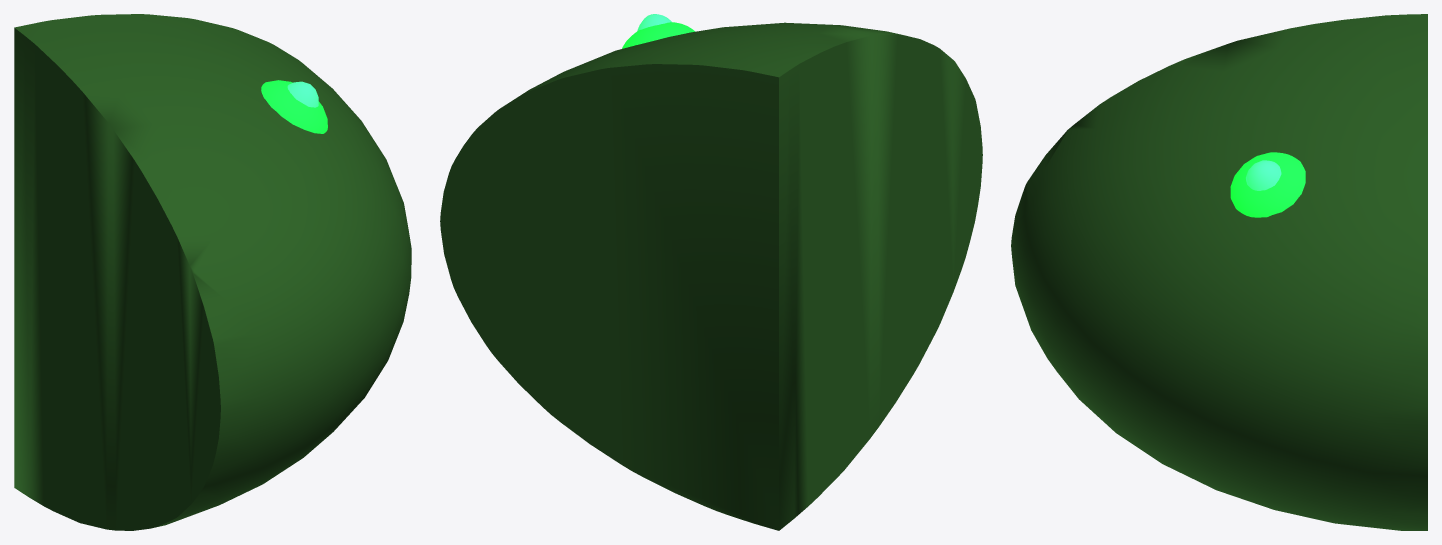
File: glass_globe_br.glb
The picture shows the model from 3 angles, left to right: view 1: azimuth 30°, elevation 25°; view 2: azimuth 150°, elevation 25°; view 3: azimuth 270°, elevation 25°; orthographic projection. The views are drawn at different scales.
Parts seen in each view (by area): view 1: glass_globe_br_globe_glass, glass_globe_br_globe_lobe_c, glass_globe_br_globe_lobe_c_core; view 2: glass_globe_br_globe_glass, glass_globe_br_globe_lobe_c; view 3: glass_globe_br_globe_glass, glass_globe_br_globe_lobe_c, glass_globe_br_globe_lobe_c_core.
Boxes of the visible parts, x1,y1,x2,y2 form: glass_globe_br_globe_glass: (14,14,411,530); glass_globe_br_globe_lobe_c: (261,80,327,133); glass_globe_br_globe_lobe_c_core: (287,81,318,107); glass_globe_br_globe_glass: (440,22,982,530); glass_globe_br_globe_lobe_c: (622,22,694,48); glass_globe_br_globe_glass: (1011,14,1427,530); glass_globe_br_globe_lobe_c: (1230,152,1305,217); glass_globe_br_globe_lobe_c_core: (1246,160,1281,190).
Size of the model in its own units: 21.85 by 27.94 by 22.75.
